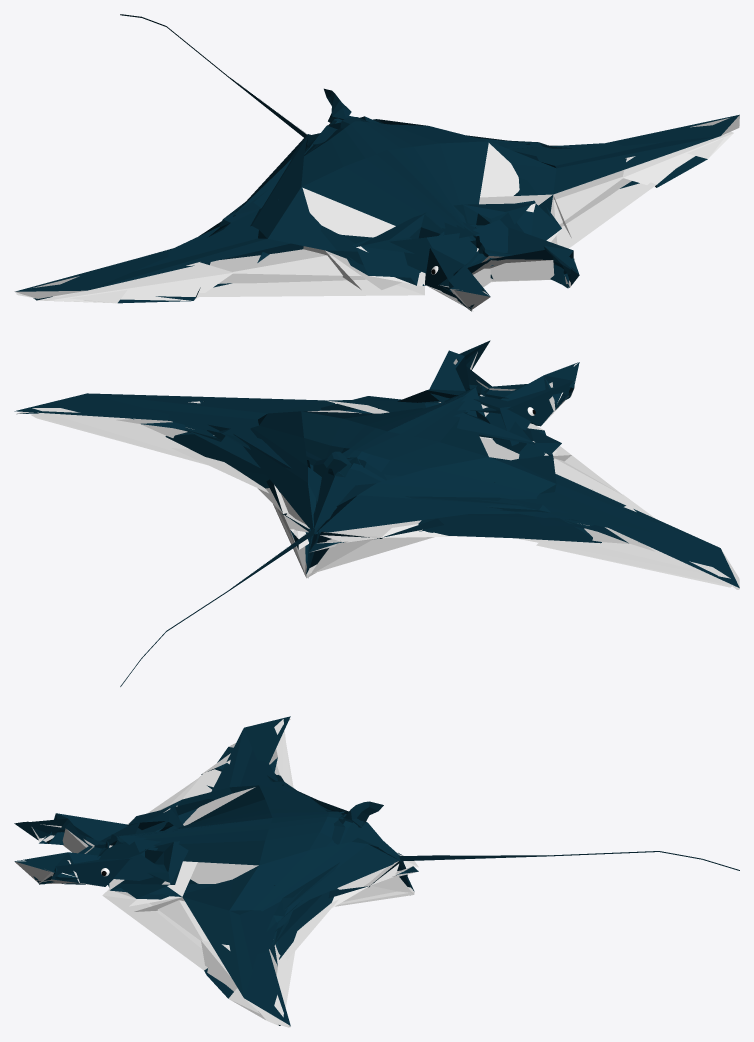
The model's file is STINGRAY.fbx.
3 views of the same model, one above another, from view 1: azimuth 30°, elevation 25°; view 2: azimuth 150°, elevation 25°; view 3: azimuth 270°, elevation 25° (orthographic). The views are drawn at different scales.
Visible parts, largest first — view 1: Cube; view 2: Cube; view 3: Cube.
Part boxes in pixels (x1,y1,x2,y2): Cube: (14,14,739,311); Cube: (14,340,739,686); Cube: (14,716,739,1027).
Size of the model in its own units: 4195 by 598 by 4154.
